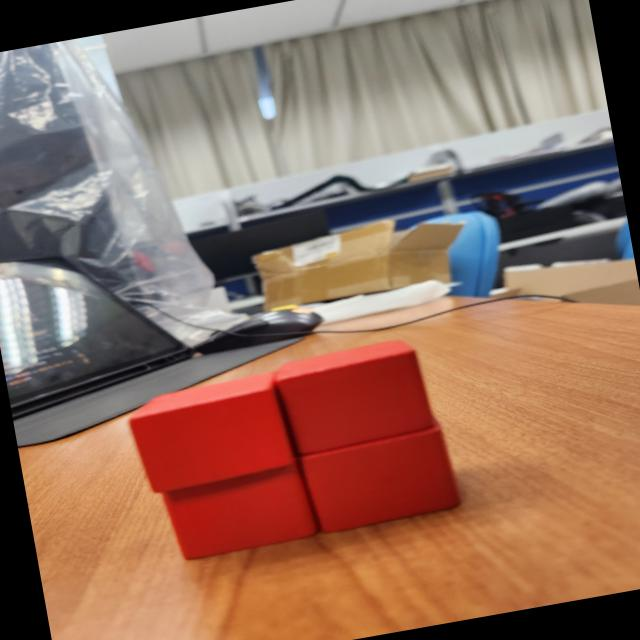red: (120, 370, 302, 497), (286, 417, 464, 538), (271, 334, 439, 456), (158, 448, 322, 562)
